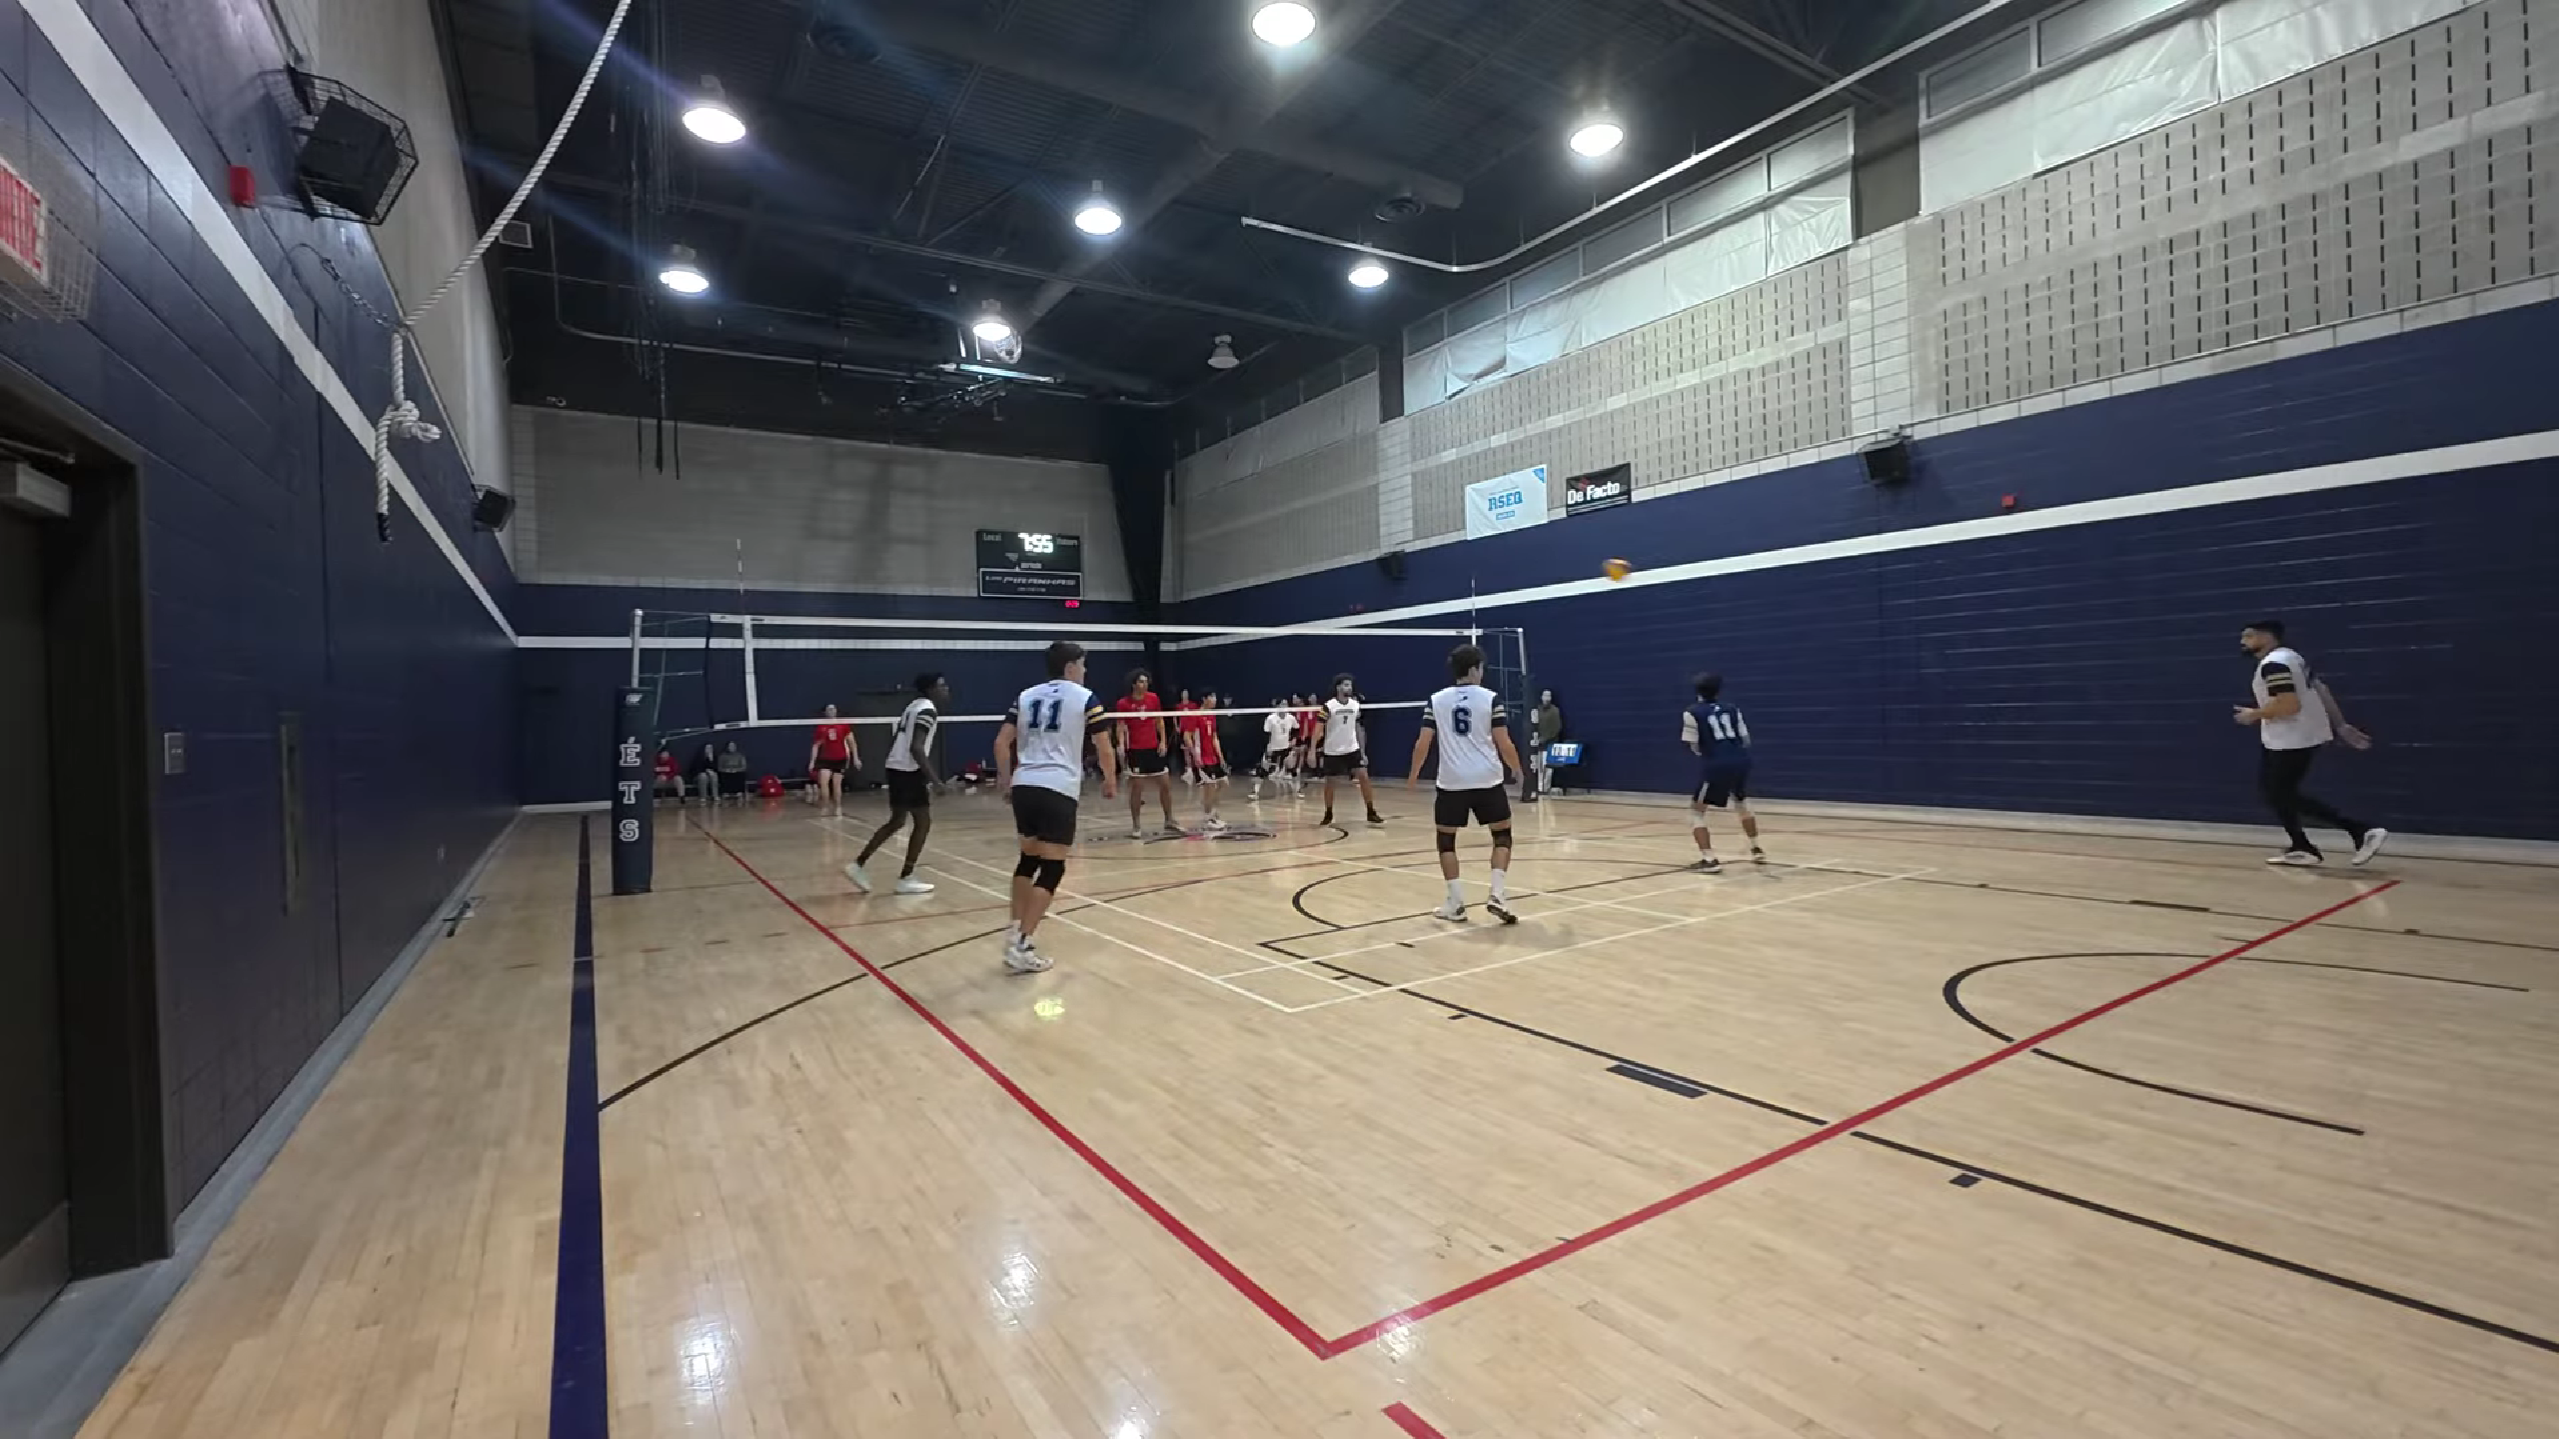Ball: (1598, 553, 1636, 585)
